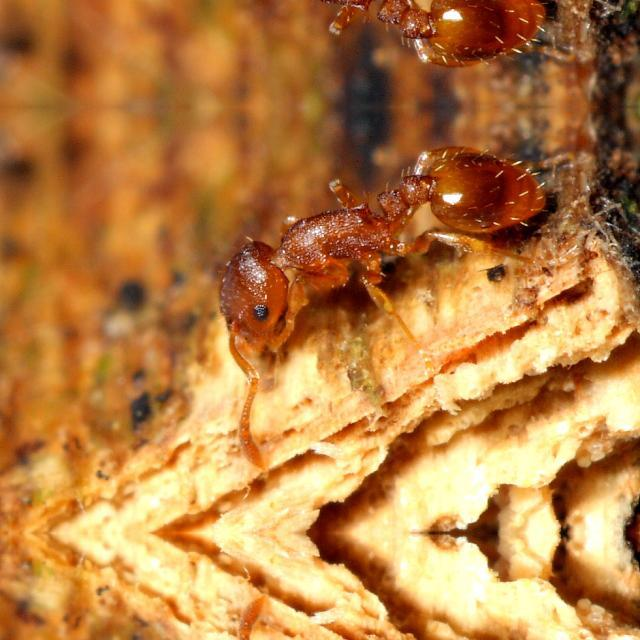Temnothorax: (192, 111, 574, 349), (190, 0, 573, 100)
